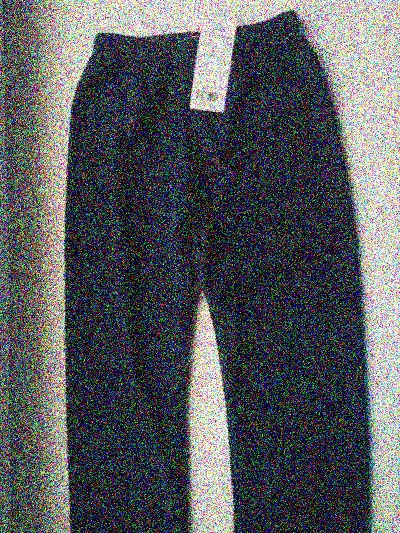Pants: (43, 8, 386, 532)
